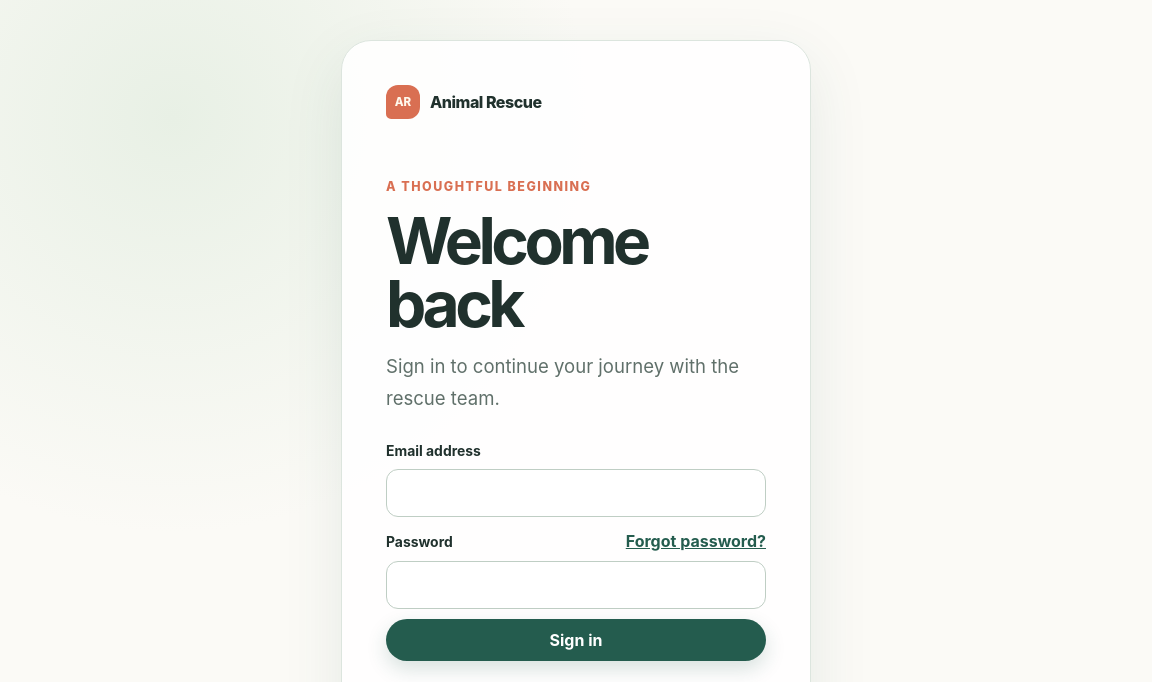
Test: applicant authentication forms › shows a safe sign-in error
The image size is (1152, 682).
Type "adopter@example.com" into the field labelled "Email address" at (576, 492), box [386,468,766,516]
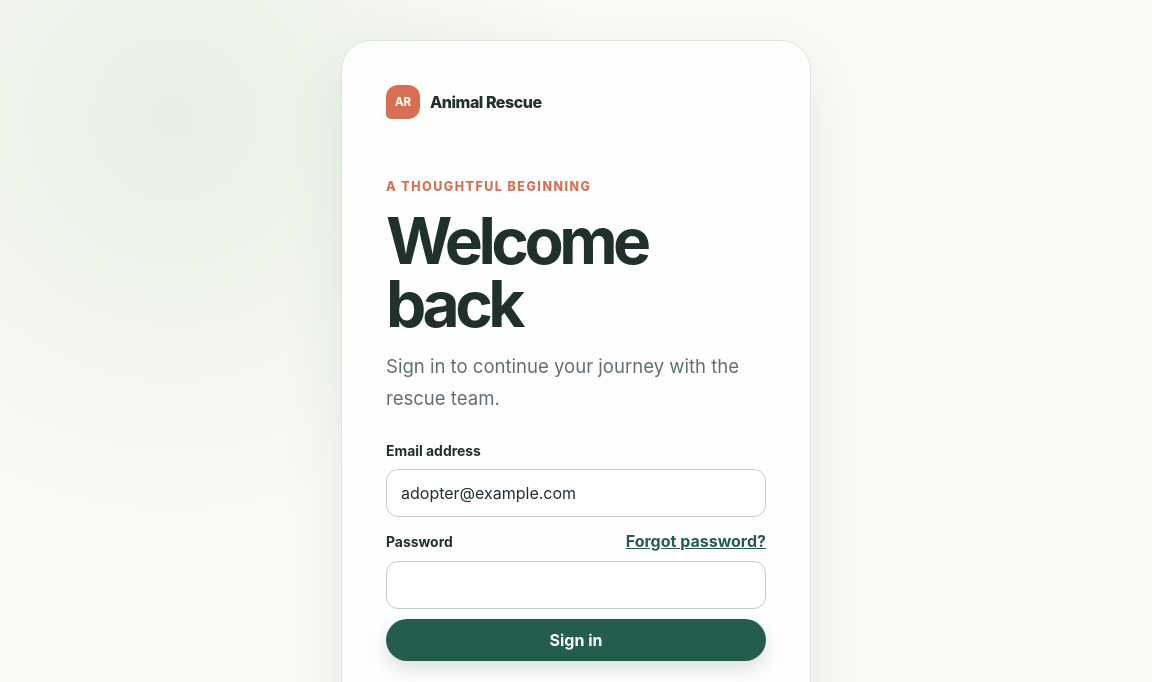
Type "wrong-password" into the password field labelled "Password" at (576, 584), box [386,560,766,608]
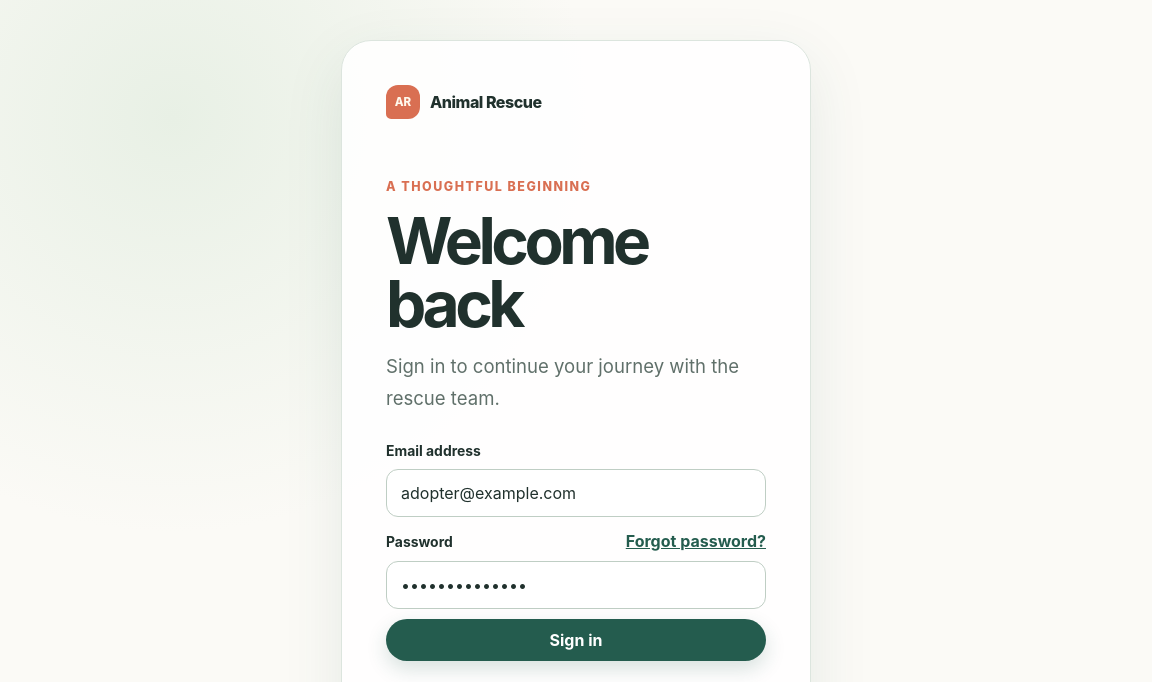
Click the button "Sign in" at (576, 640), box [386,618,766,660]
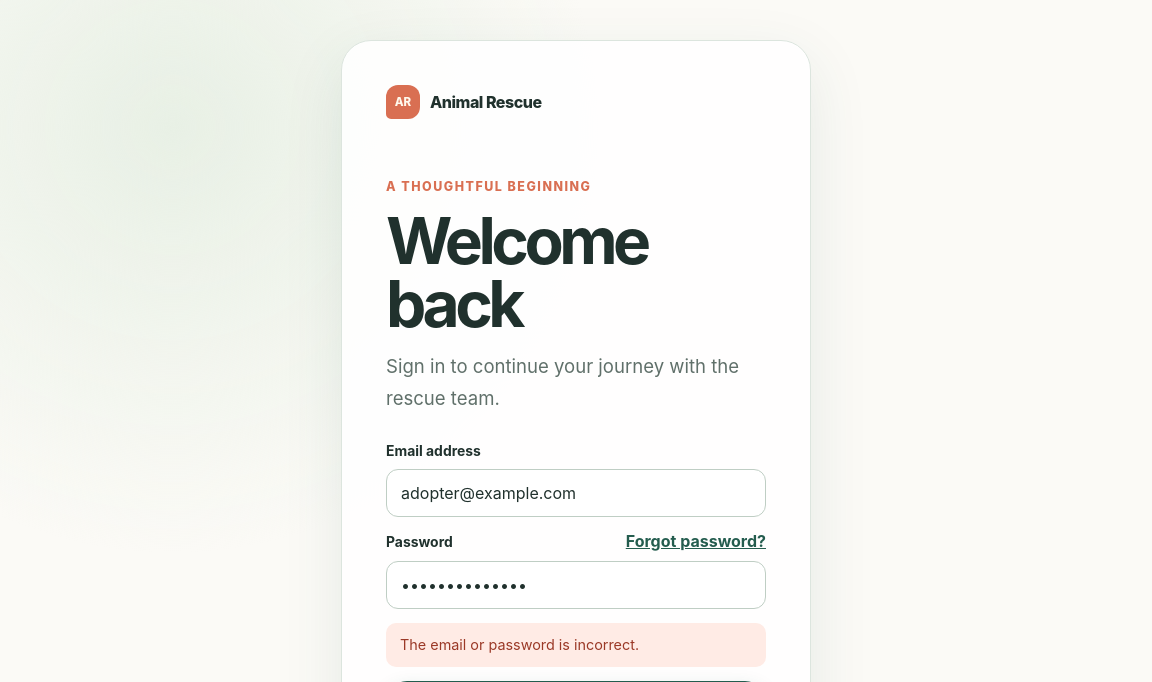
Expected: the message shows "incorrect", [400,636,639,652]
